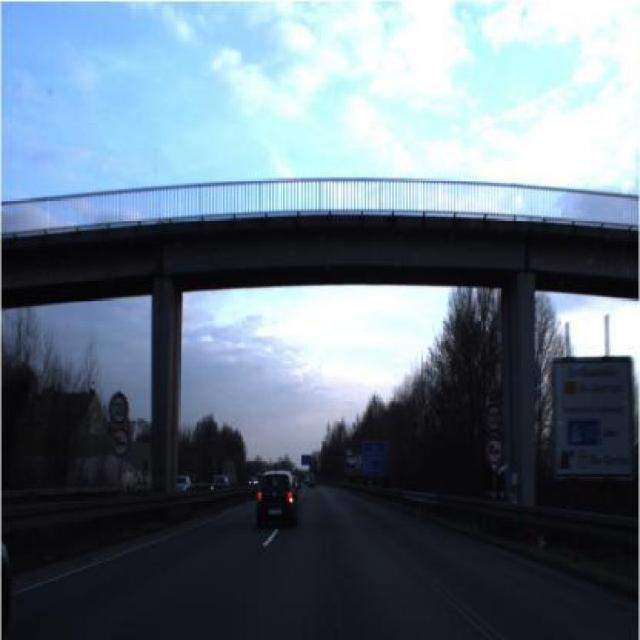Ograniczenie predkosci do 120: (107, 391, 130, 426), (483, 401, 503, 437)
Zakaz wyprzedzania: (109, 426, 133, 459), (484, 438, 507, 464)
